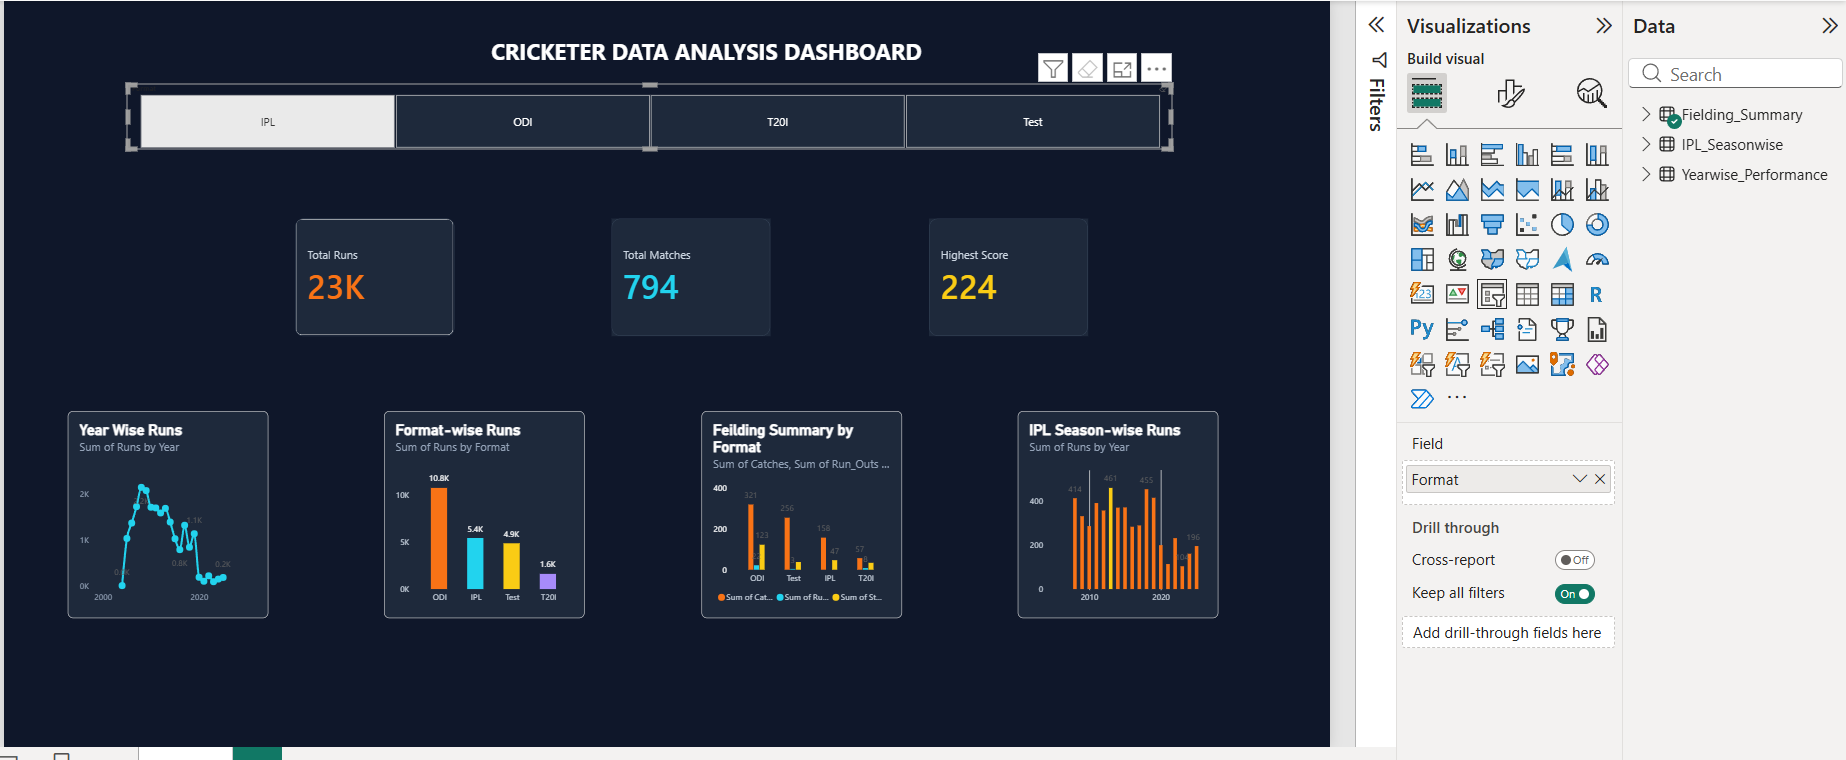

Layout of this report page (visuals, bound fields, positions):
{"tool":"powerbi","page":{"name":"Page 1","canvas":[1920,1080],"ordinal":0},"visuals":[{"type":"cardVisual","title":"Total Runs","fields":{"Data":["Sum(Yearwise_Performance.Runs)"]},"box":[422.1,315.3,230,170],"z":1000},{"type":"cardVisual","title":"Total Matches","fields":{"Data":["Sum(Yearwise_Performance.Matches)"]},"box":[880.3,315.3,230,170],"z":1001},{"type":"cardVisual","title":"Highest Score","fields":{"Data":["Max(Yearwise_Performance.Highest_Score)"]},"box":[1338.5,315.3,230,170],"z":1002},{"type":"lineChart","title":"Year Wise Runs","fields":{"Category":["Yearwise_Performance.Year"],"Y":["Sum(Yearwise_Performance.Runs)"]},"box":[92.6,593.8,290,300],"z":1004},{"type":"clusteredColumnChart","title":"Format-wise Runs","fields":{"Category":["Yearwise_Performance.Format"],"Y":["Sum(Yearwise_Performance.Runs)"]},"box":[550.9,593.8,290,300],"z":1005},{"type":"clusteredColumnChart","title":"Feilding Summary by Format","fields":{"Category":["Fielding_Summary.Format"],"Y":["Sum(Fielding_Summary.Catches)","Sum(Fielding_Summary.Run_Outs)","Sum(Fielding_Summary.Stumpings)"]},"box":[1009.1,593.8,290,300],"z":1006},{"type":"clusteredColumnChart","title":" IPL Season-wise Runs","fields":{"Category":["IPL_Seasonwise.Year"],"Y":["Sum(IPL_Seasonwise.Runs)"]},"box":[1467.4,593.8,290,300],"z":1007},{"type":"textbox","box":[343.7,50.5,1346.3,88.9],"z":1008},{"type":"slicer","fields":{"Values":["Fielding_Summary.Format"]},"box":[177.5,120,1515,95],"z":1009}]}

Visuals, with their boxes on the page's 1920x1080 design canvas (x1, y1, x2, y2). These are canvas units, not pixel positions in the 1846x760 screenshot, which may show the page scaled, cropped or inside an application window:
"Total Runs" cardVisual: bbox(422, 315, 652, 485)
"Total Matches" cardVisual: bbox(880, 315, 1110, 485)
"Highest Score" cardVisual: bbox(1338, 315, 1568, 485)
"Year Wise Runs" lineChart: bbox(93, 594, 383, 894)
"Format-wise Runs" clusteredColumnChart: bbox(551, 594, 841, 894)
"Feilding Summary by Format" clusteredColumnChart: bbox(1009, 594, 1299, 894)
" IPL Season-wise Runs" clusteredColumnChart: bbox(1467, 594, 1757, 894)
textbox: bbox(344, 50, 1690, 139)
slicer - Fielding_Summary.Format: bbox(178, 120, 1692, 215)
